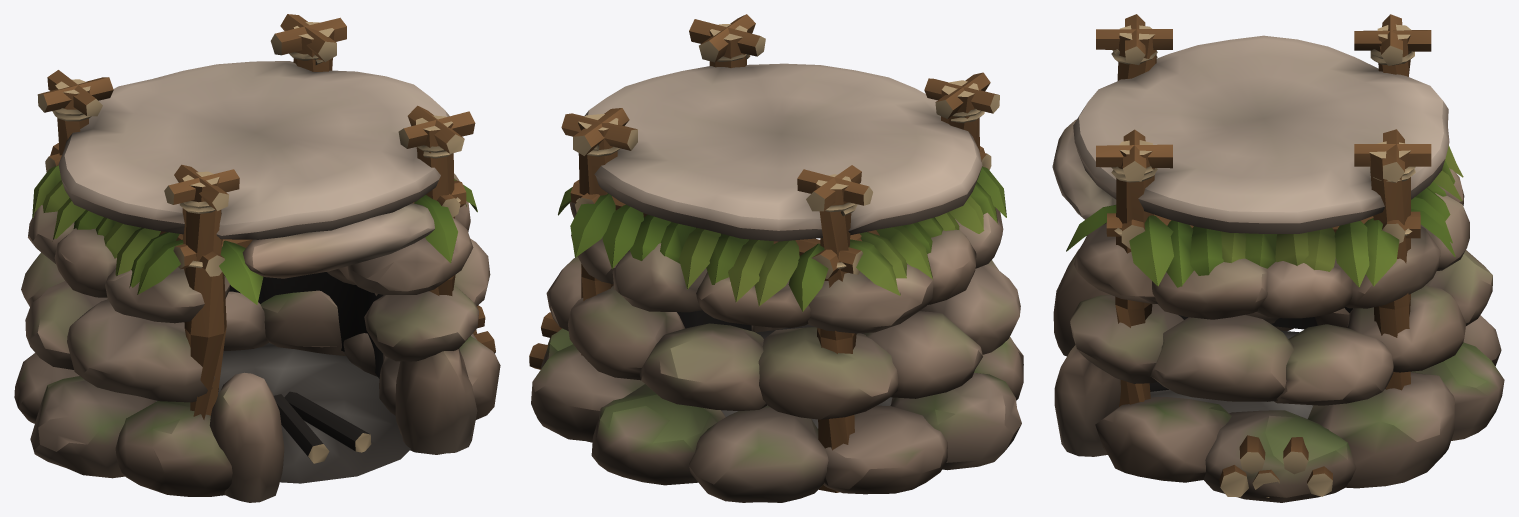
The model's file is building-stove.glb.
3 views of the same model, side by side, from view 1: azimuth 30°, elevation 25°; view 2: azimuth 150°, elevation 25°; view 3: azimuth 270°, elevation 25° (orthographic).
Parts seen in each view (by area): view 1: 0_stove; view 2: 0_stove; view 3: 0_stove.
Boxes of the visible parts, x1,y1,x2,y2 form: 0_stove: [14, 14, 500, 502]; 0_stove: [529, 14, 1023, 502]; 0_stove: [1052, 14, 1504, 502].
Bounding box in the file's own units: 1.9 × 1.25 × 1.65.
